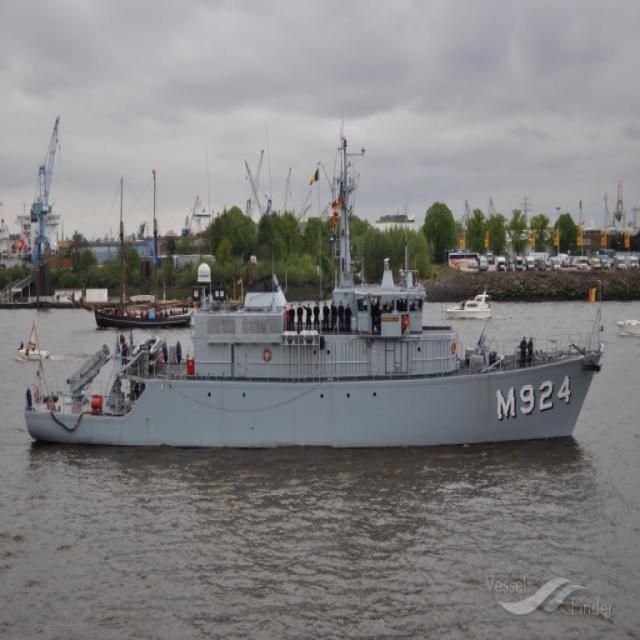OCR: (483, 371, 570, 430)
